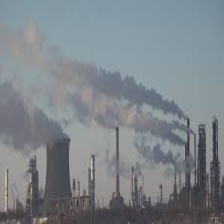smoke: (2, 42, 196, 166)
